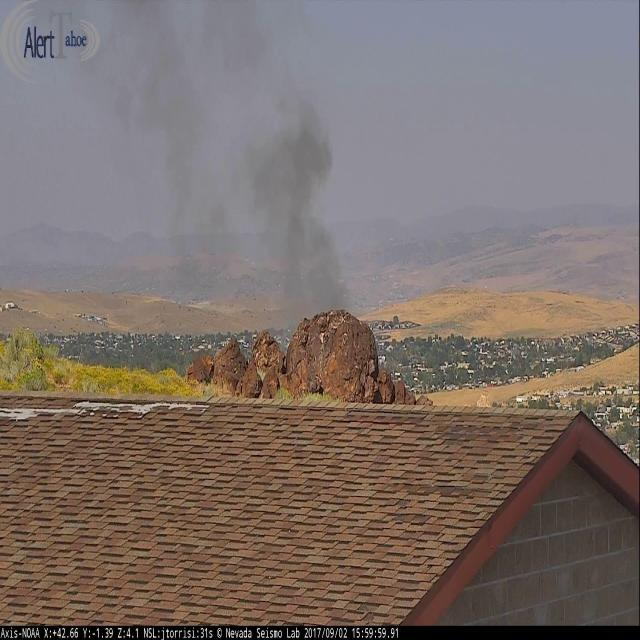smoke: (99, 7, 358, 346)
